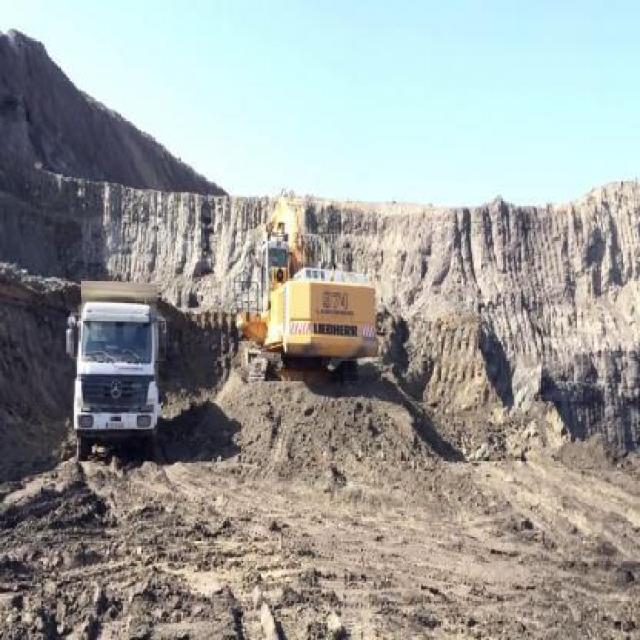Dump Truck: (68, 279, 160, 461)
Excavator: (230, 178, 379, 388)
